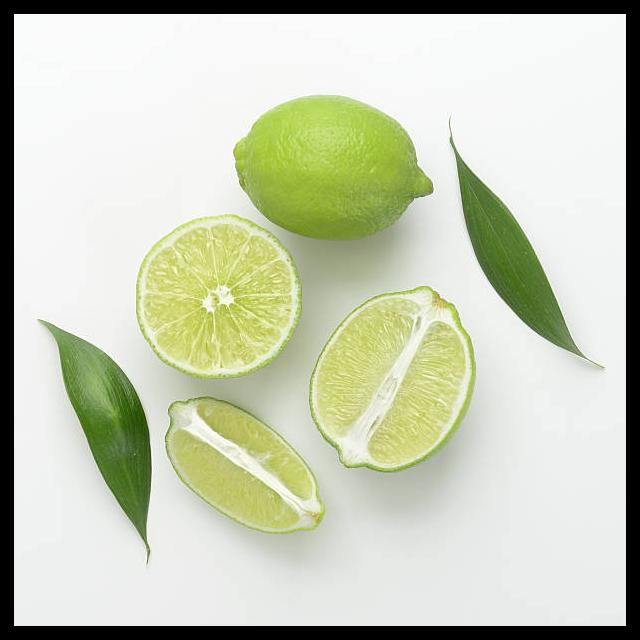lime: (223, 84, 441, 248)
